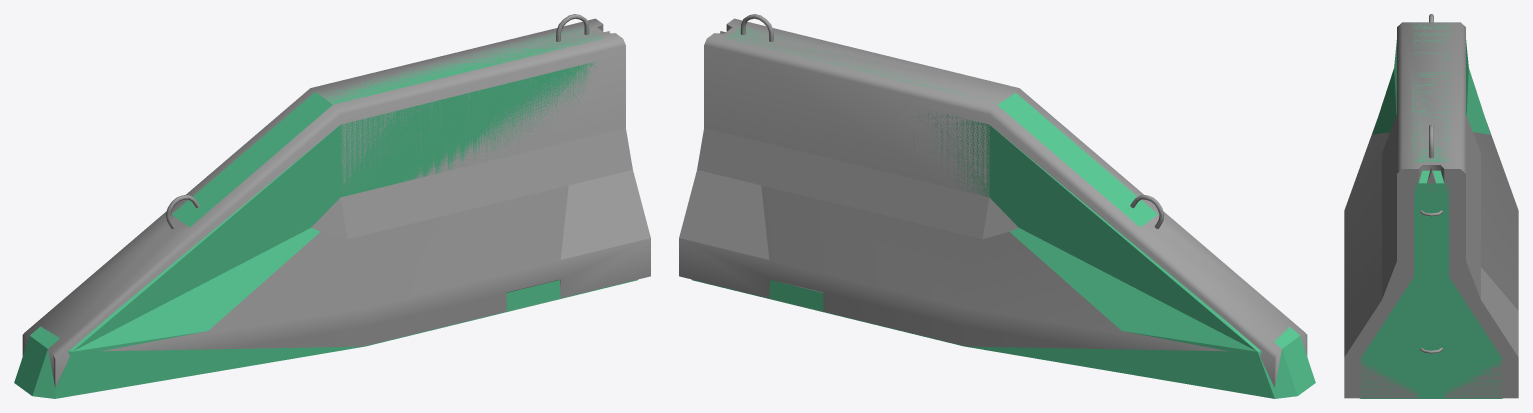
The model's file is concrete_road_barrier_b.dae.
The picture shows the model from 3 angles, left to right: view 1: azimuth 30°, elevation 25°; view 2: azimuth 150°, elevation 25°; view 3: azimuth 270°, elevation 25°; orthographic projection. The views are drawn at different scales.
Visible parts, largest first — view 1: tree_oak_bush_a80, Colmesh-1, tree_oak_bush_a40, tree_oak_bush_a200; view 2: tree_oak_bush_a80, Colmesh-1, tree_oak_bush_a40, tree_oak_bush_a200; view 3: tree_oak_bush_a80, Colmesh-1, tree_oak_bush_a40, tree_oak_bush_a200.
Part boxes in pixels (left/top/right/bottom): tree_oak_bush_a80: left=22, top=18, right=650, bottom=387; Colmesh-1: left=14, top=27, right=638, bottom=398; tree_oak_bush_a40: left=311, top=31, right=632, bottom=310; tree_oak_bush_a200: left=165, top=14, right=589, bottom=228; tree_oak_bush_a80: left=679, top=18, right=1307, bottom=387; Colmesh-1: left=691, top=26, right=1315, bottom=398; tree_oak_bush_a40: left=697, top=31, right=1018, bottom=310; tree_oak_bush_a200: left=740, top=14, right=1164, bottom=228; tree_oak_bush_a80: left=1344, top=22, right=1518, bottom=398; Colmesh-1: left=1360, top=22, right=1502, bottom=398; tree_oak_bush_a40: left=1347, top=115, right=1514, bottom=398; tree_oak_bush_a200: left=1420, top=14, right=1442, bottom=353.
Bounding box in the file's own units: 3.12 × 0.7541 × 1.21.
